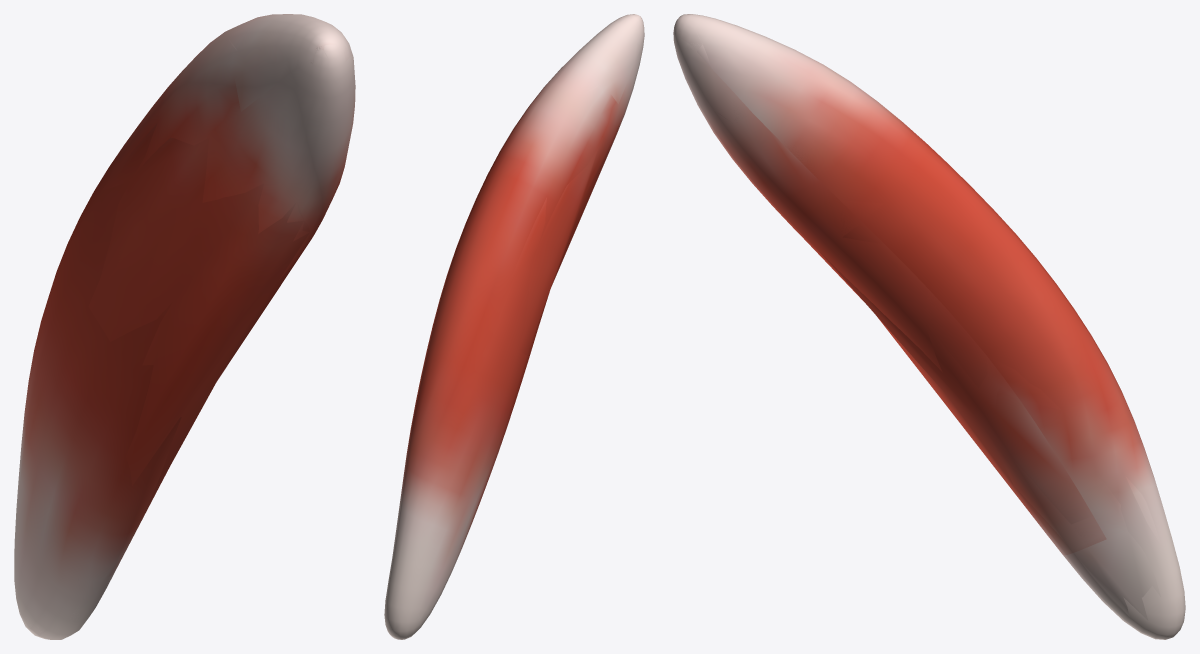
Rendered from L Triceps Brachii Medial Head.fbx.
3 renders of one model, left to right at view 1: azimuth 30°, elevation 25°; view 2: azimuth 150°, elevation 25°; view 3: azimuth 270°, elevation 25°, orthographic. The views are drawn at different scales.
Visible parts, largest first — view 1: L Triceps Brachii Medial Head, L Triceps Brachii Medial Head low; view 2: L Triceps Brachii Medial Head, L Triceps Brachii Medial Head low; view 3: L Triceps Brachii Medial Head, L Triceps Brachii Medial Head low.
Part boxes in pixels (x1,y1,x2,y2): L Triceps Brachii Medial Head: (14, 14, 355, 639); L Triceps Brachii Medial Head low: (15, 38, 353, 634); L Triceps Brachii Medial Head: (384, 14, 644, 639); L Triceps Brachii Medial Head low: (394, 67, 613, 625); L Triceps Brachii Medial Head: (673, 14, 1185, 639); L Triceps Brachii Medial Head low: (679, 26, 1161, 620).
Bounding box in the file's own units: 2.73 × 15.34 × 11.86.
